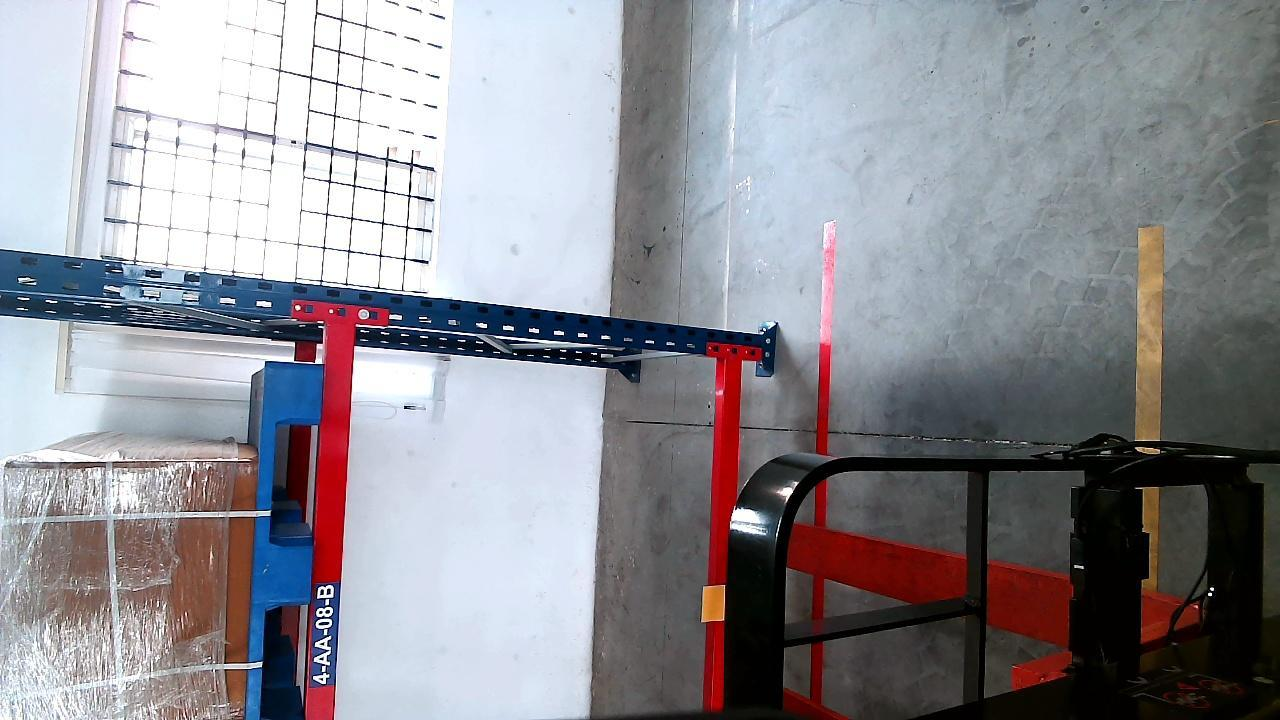red_line: (818, 217, 840, 457)
yellow_line: (1137, 222, 1163, 443)
